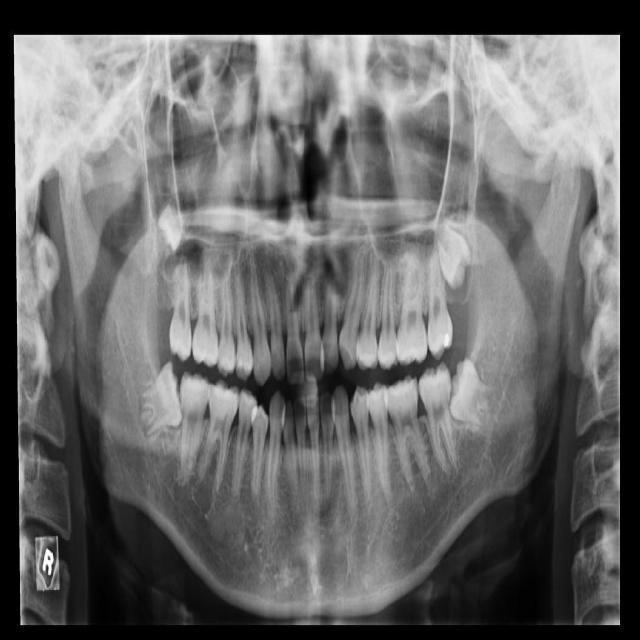Filling: (442, 324, 452, 346)
